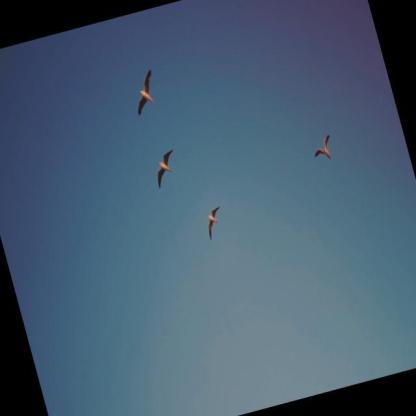bird: (123, 60, 164, 119), (149, 145, 184, 192), (200, 202, 230, 243), (307, 128, 337, 168)
